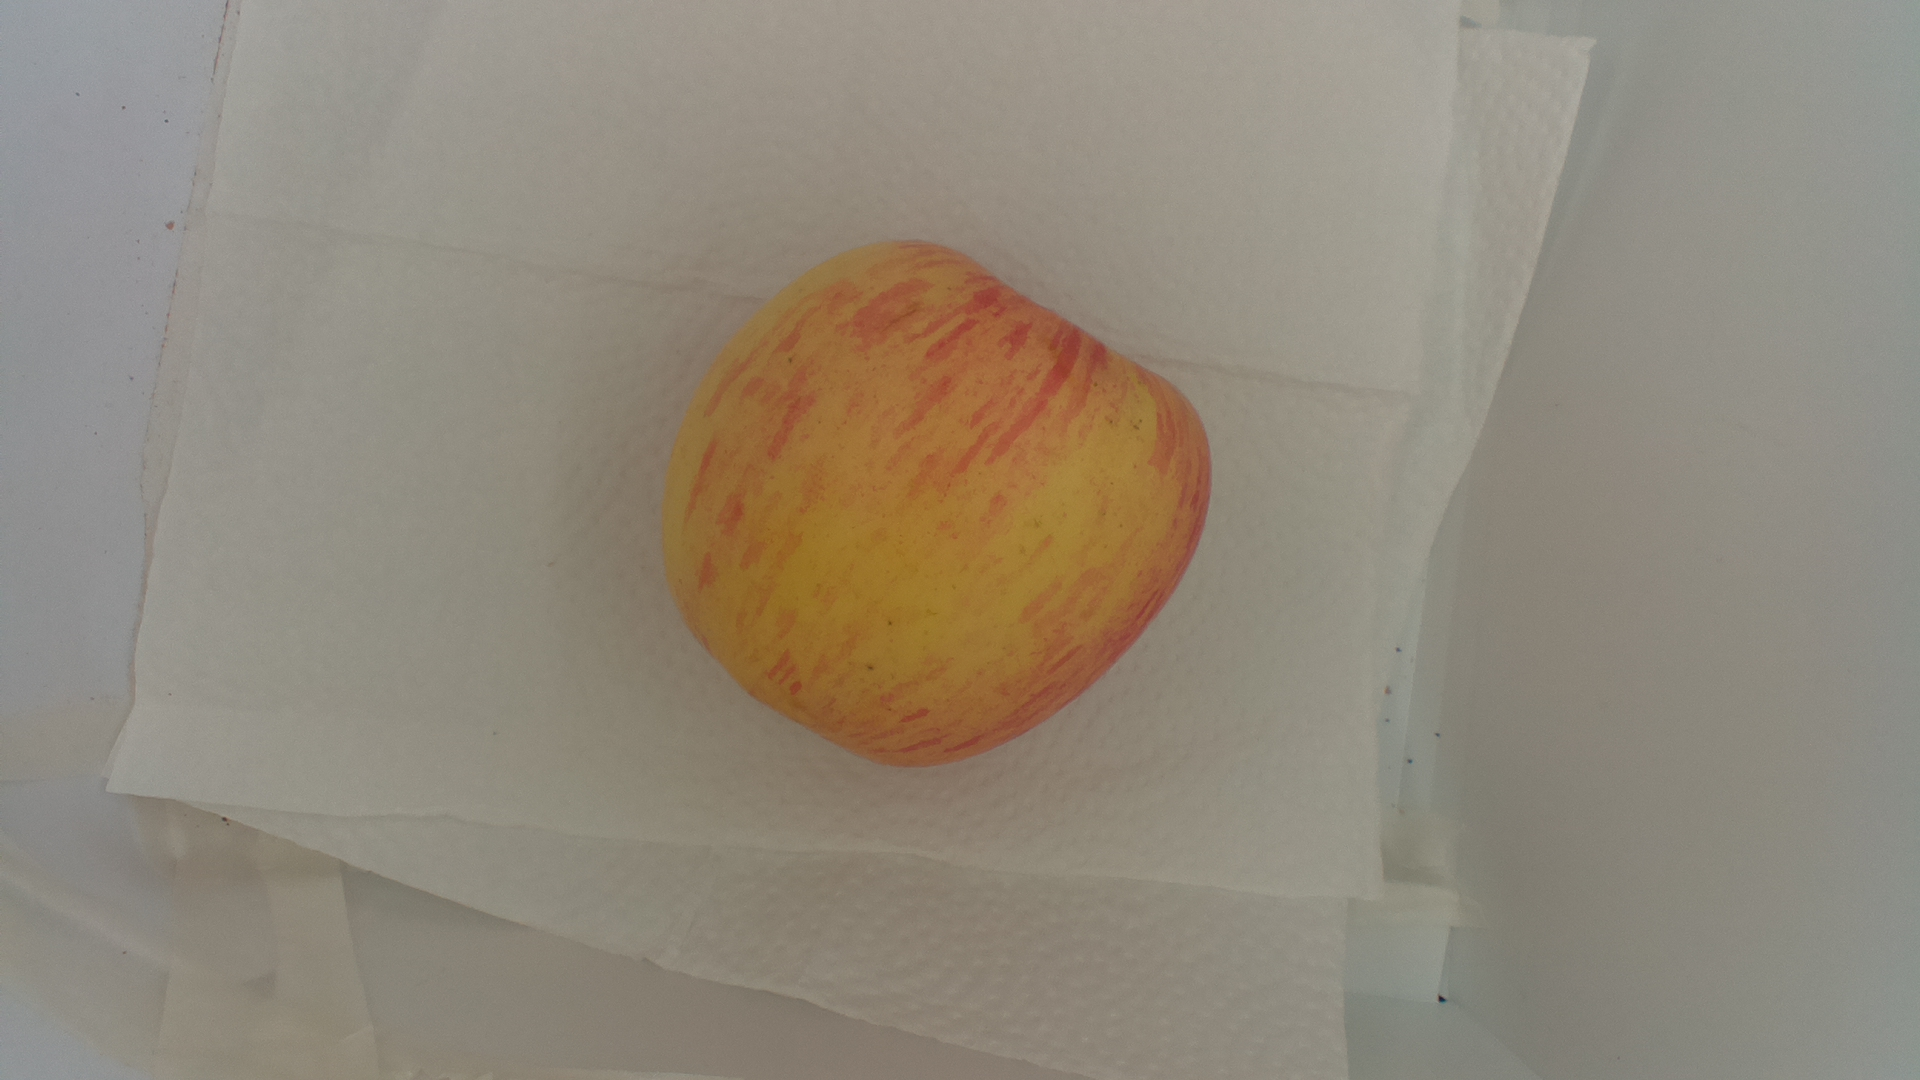fruit: (658, 232, 1215, 775)
